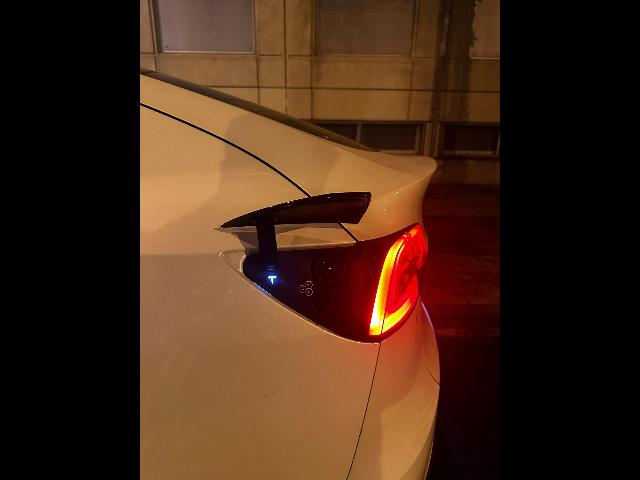inlet: (314, 256, 346, 285)
inlet-above-left: (322, 259, 327, 265)
inlet-above-right: (331, 258, 337, 264)
inlet-below-left: (322, 273, 331, 282)
inlet-below-right: (332, 272, 341, 281)
inlet-circle: (326, 263, 335, 273)
inlet-circle-left: (316, 264, 325, 274)
inlet-circle-right: (336, 262, 344, 272)
inlet-minus: (334, 291, 348, 306)
inlet-plus: (318, 293, 333, 308)
